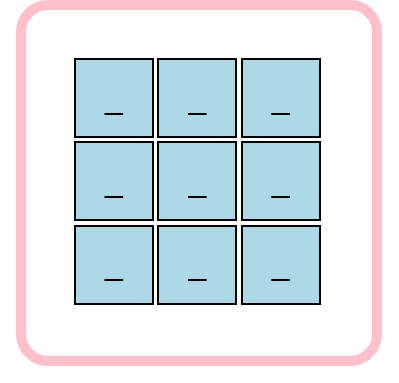
board › after first click on board produces an X
Click the button with test id "cell_0" at (114, 98), box x1=74 y1=58 x2=154 y2=138
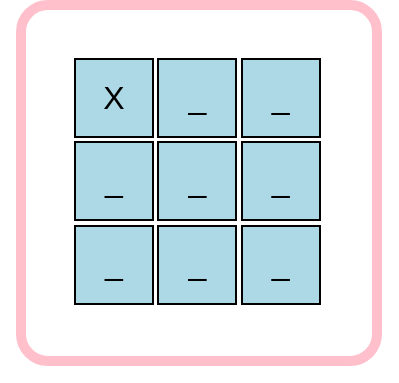
Check: the button with test id "cell_0" reads "X", box x1=74 y1=58 x2=154 y2=138
